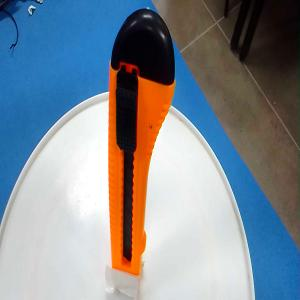estilete: (108, 8, 176, 278)
